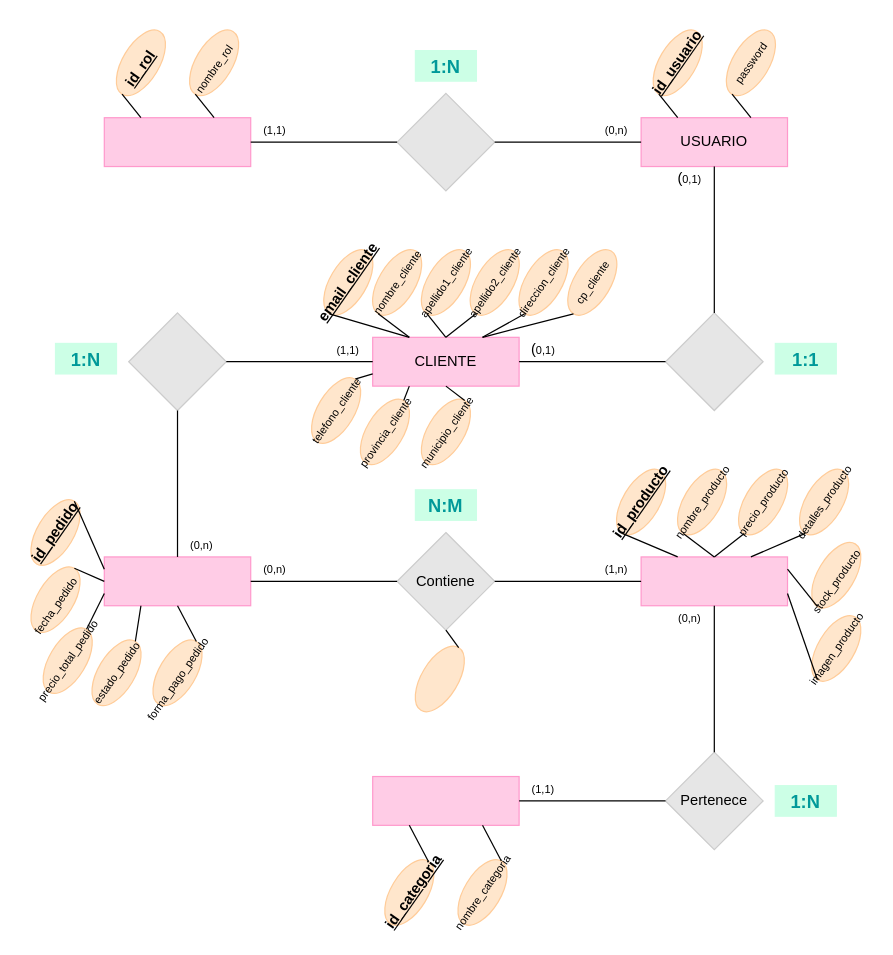
Image size: 893x955. Some labels were removed from this diagram. Here are the shapes that lost their labels. From the top down, the box of each, then its label:
(103, 117, 251, 167): ROL
(396, 92, 495, 191): Se asigna
(127, 312, 226, 411): Realiza
(664, 312, 763, 411): Puede ser
(103, 556, 251, 606): PEDIDO
(640, 556, 788, 606): PRODUCTO
(404, 637, 475, 720): cantidad_producto
(371, 775, 519, 825): CATEGORÍA
